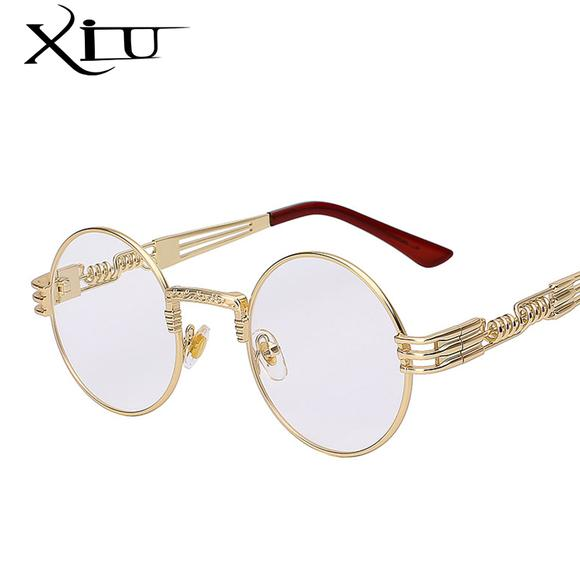sunglasses: (22, 198, 570, 463)
